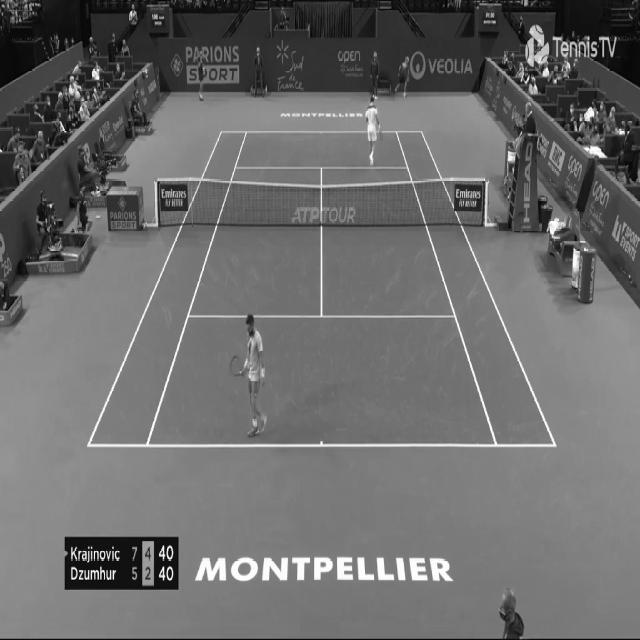tennis-court: (86, 131, 557, 447)
